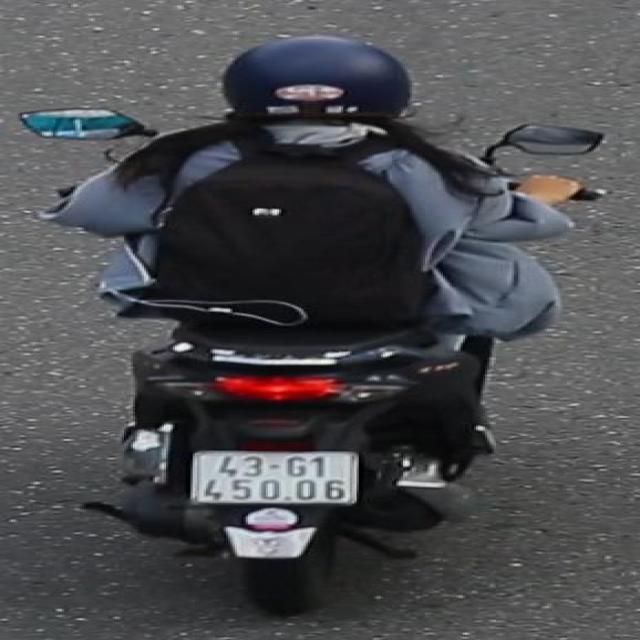LP: (185, 447, 364, 511)
helmet: (209, 31, 431, 137)
